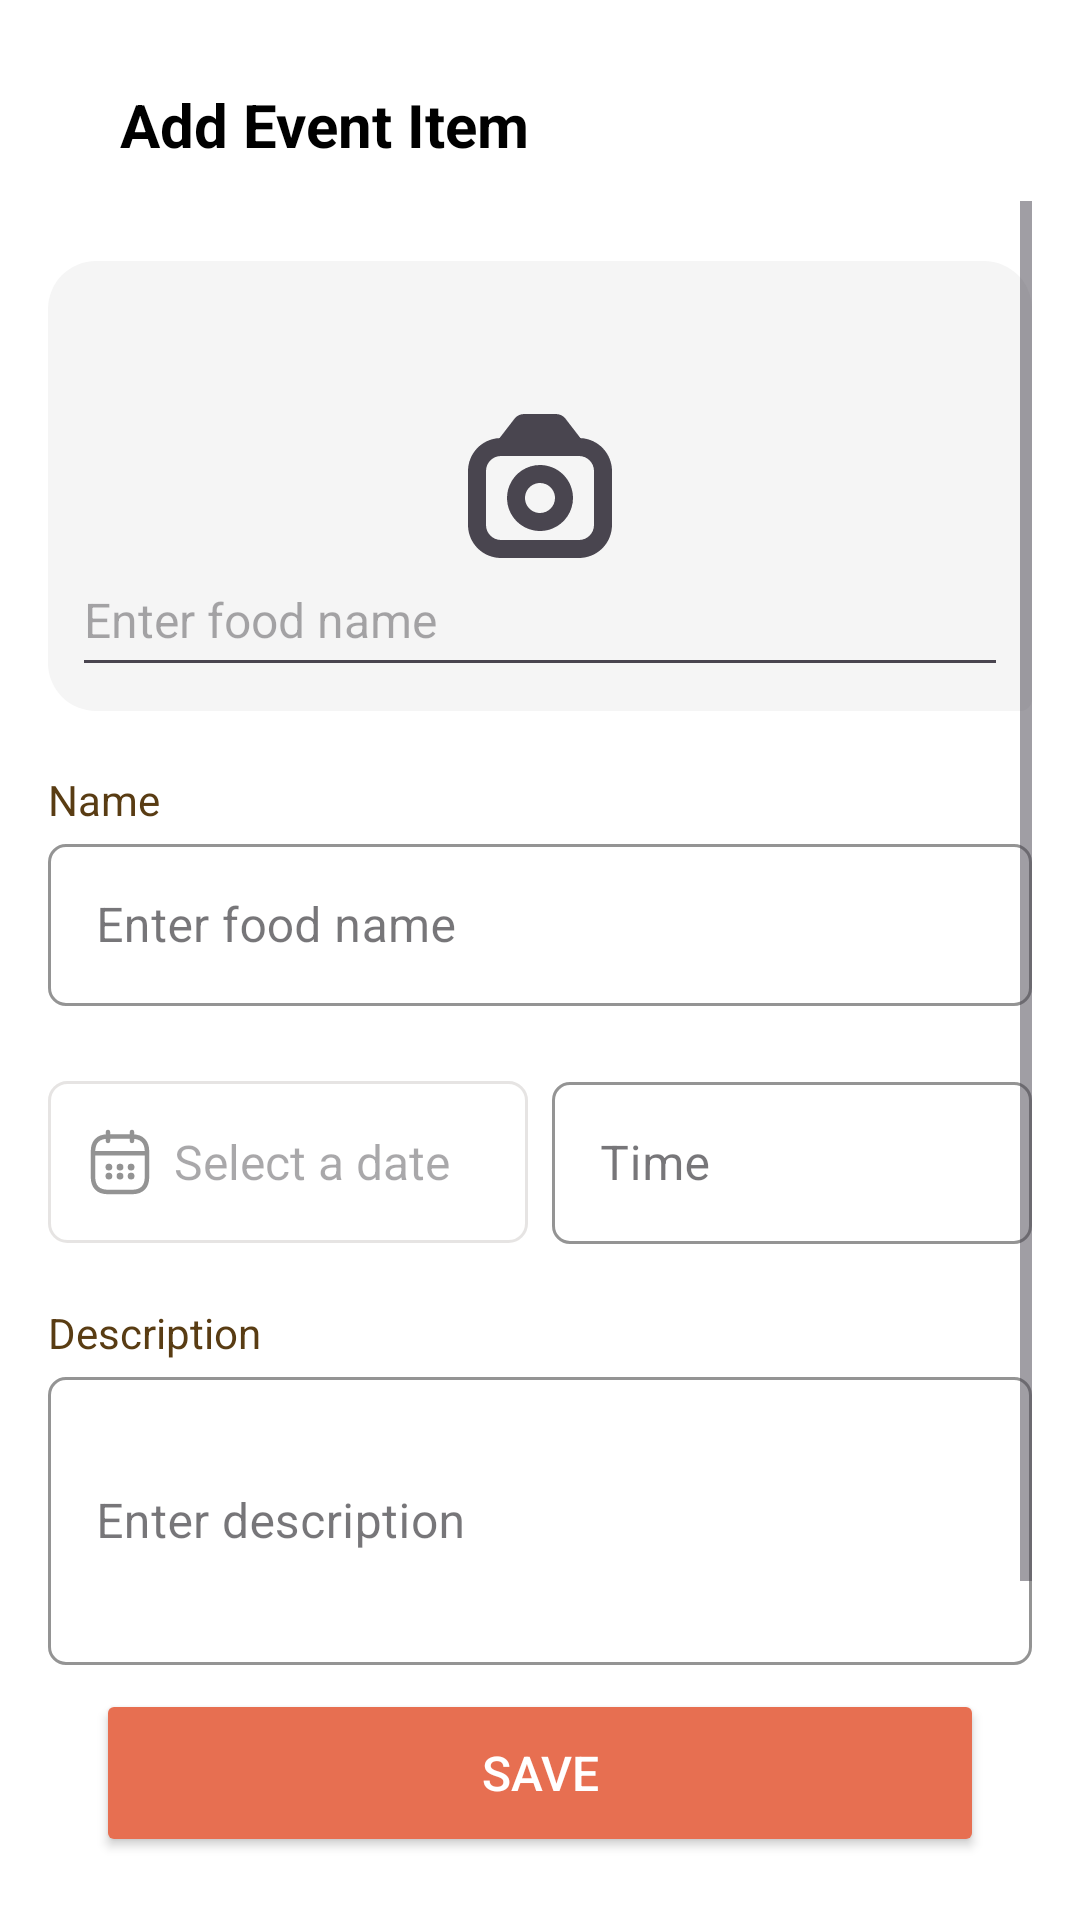

Point at icon controls on the screen. Image size 1080 x 1920, points as point (x, y).
Add Image: point (540, 486)
